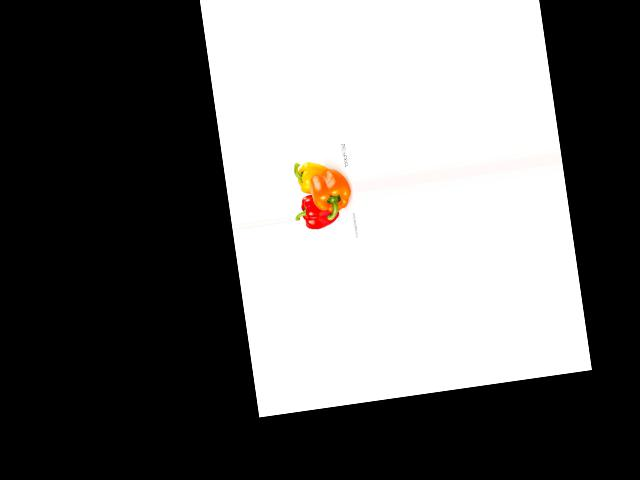bell_pepper: (290, 157, 332, 197)
